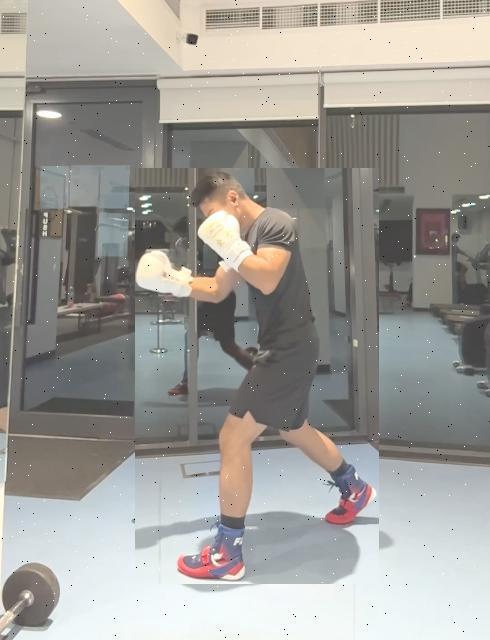punch: (135, 168, 379, 584)
